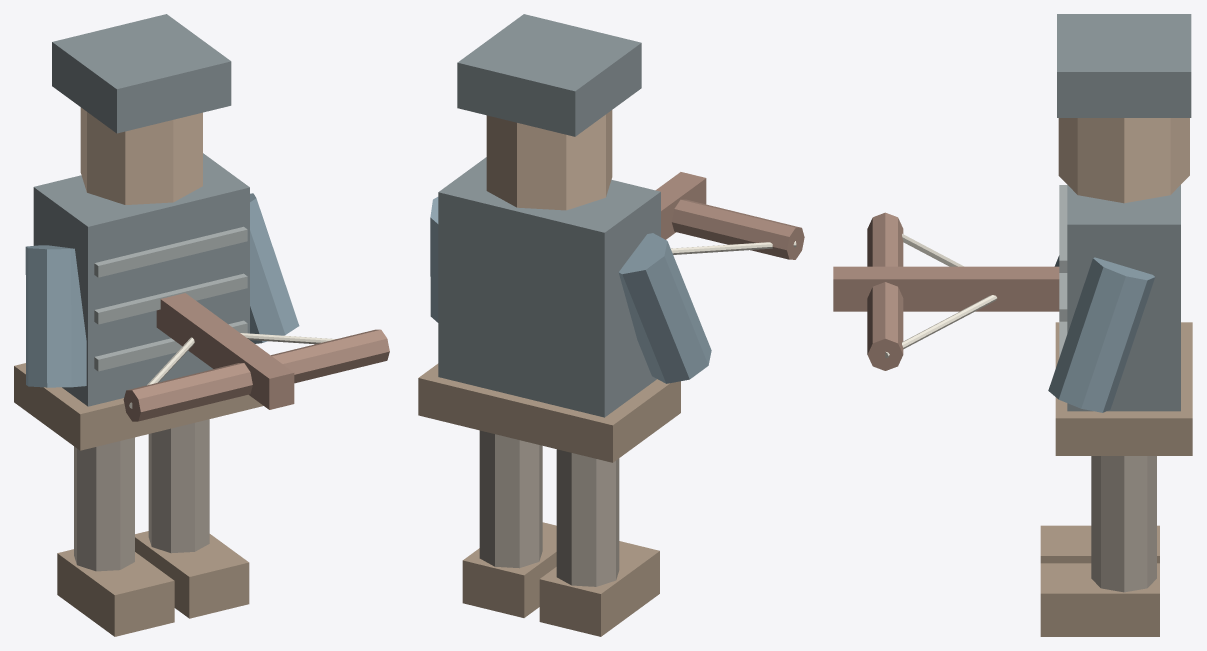
Rendered from crossbow.glb.
The picture shows the model from 3 angles, left to right: view 1: azimuth 30°, elevation 25°; view 2: azimuth 150°, elevation 25°; view 3: azimuth 270°, elevation 25°; orthographic projection. The views are drawn at different scales.
Bounding box in the file's own units: 1.08 × 2.07 × 1.21.
